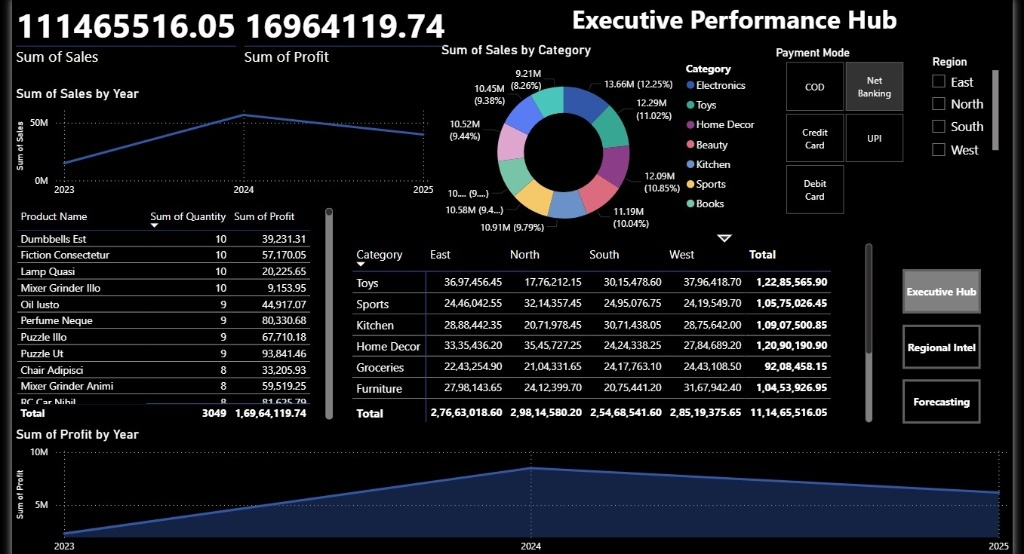

What the dashboard file says about the page in this screenshot:
{"tool":"powerbi","page":{"name":"Page 1","canvas":[1280,720],"ordinal":0},"visuals":[{"type":"donutChart","fields":{"Category":["data_source.Category"],"Y":["Sum(data_source.Sales)"]},"box":[544.1,56.7,419.8,264.2],"z":0},{"type":"slicer","fields":{"Values":["data_source.Region"]},"box":[1164.2,68.8,102.5,143.6],"z":1000},{"type":"tableEx","fields":{"Values":["data_source.Product Name","Sum(data_source.Quantity)","Sum(data_source.Profit)"]},"box":[0,263.8,415,281.2],"z":2000},{"type":"lineChart","fields":{"Y":["Sum(data_source.Sales)"],"Category":["data_source.Order Date.Variation.Date Hierarchy.Year","data_source.Order Date.Variation.Date Hierarchy.Quarter","data_source.Order Date.Variation.Date Hierarchy.Month","data_source.Order Date.Variation.Date Hierarchy.Day"]},"box":[0,112.2,544.1,152],"z":3000},{"type":"slicer","fields":{"Values":["data_source.Payment Mode"]},"box":[963.9,56.7,200.3,226.8],"z":4000},{"type":"pivotTable","fields":{"Rows":["data_source.Category"],"Columns":["data_source.Region"],"Values":["Sum(data_source.Sales)"]},"box":[430.7,310.1,674.4,238.9],"z":5000},{"type":"areaChart","fields":{"Category":["data_source.Order Date.Variation.Date Hierarchy.Year","data_source.Order Date.Variation.Date Hierarchy.Quarter","data_source.Order Date.Variation.Date Hierarchy.Month","data_source.Order Date.Variation.Date Hierarchy.Day"],"Y":["Sum(data_source.Profit)"]},"box":[0,548.9,1280,171.3],"z":6000},{"type":"textbox","box":[0,0,292.5,112.5],"z":7000},{"type":"textbox","box":[292.5,0,276.2,112.5],"z":8000},{"type":"textbox","box":[568.2,0,711.8,56.7],"z":9000},{"type":"actionButton","box":[1138.9,347.5,100.1,56.7],"z":10000},{"type":"actionButton","box":[1138.9,418.6,100.1,56.7],"z":11000},{"type":"actionButton","box":[1138.9,488.6,100.1,56.7],"z":12000}]}

Visuals, with their boxes on the page's 1280x720 design canvas (x1, y1, x2, y2). These are canvas units, not pixel positions in the 1024x554 screenshot, which may show the page scaled, cropped or inside an application window:
donutChart - data_source.Category x Sum(data_source.Sales): select_region(544, 57, 964, 321)
slicer - data_source.Region: select_region(1164, 69, 1267, 212)
tableEx - data_source.Product Name x Sum(data_source.Quantity): select_region(0, 264, 415, 545)
lineChart - Sum(data_source.Sales) x data_source.Order Date.Variation.Date Hierarchy.Year: select_region(0, 112, 544, 264)
slicer - data_source.Payment Mode: select_region(964, 57, 1164, 284)
pivotTable - data_source.Category x data_source.Region: select_region(431, 310, 1105, 549)
areaChart - data_source.Order Date.Variation.Date Hierarchy.Year x data_source.Order Date.Variation.Date Hierarchy.Quarter: select_region(0, 549, 1280, 720)
textbox: select_region(0, 0, 292, 112)
textbox: select_region(292, 0, 569, 112)
textbox: select_region(568, 0, 1280, 57)
actionButton: select_region(1139, 348, 1239, 404)
actionButton: select_region(1139, 419, 1239, 475)
actionButton: select_region(1139, 489, 1239, 545)
